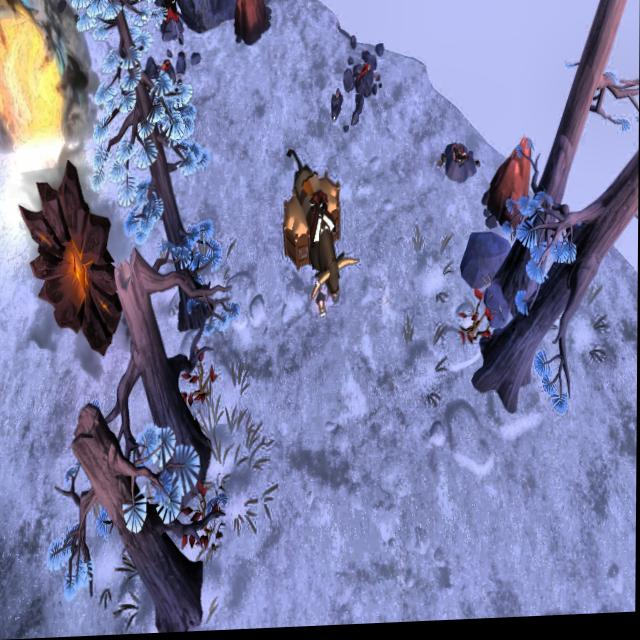ore_t5: (161, 0, 181, 30)
rock_t5: (482, 140, 537, 234), (234, 0, 275, 48)
